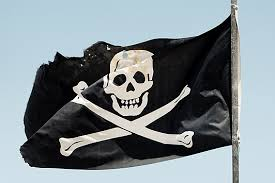Jolly Roger Flag: (21, 16, 232, 171)
